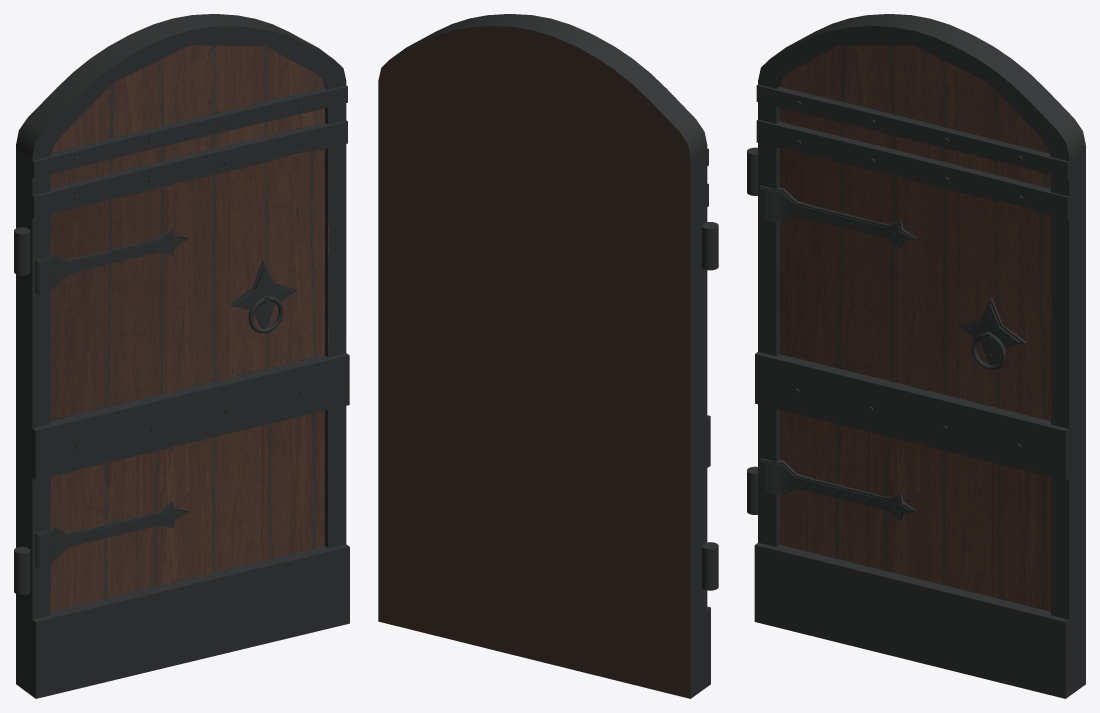
Rendered from Prison Door.glb.
3 views of the same model, side by side, from view 1: azimuth 30°, elevation 25°; view 2: azimuth 150°, elevation 25°; view 3: azimuth 330°, elevation 25° (orthographic).
Parts seen in each view (by area): view 1: Object005.001; view 2: Object005.001; view 3: Object005.001.
Part boxes in pixels (box(x1,y1,x2,y2)): Object005.001: box(14, 14, 349, 698); Object005.001: box(378, 14, 718, 698); Object005.001: box(747, 14, 1085, 698).
Size of the model in its own units: 0.9914 by 1.82 by 0.1152.
Materials: 1 (1 with a texture image).
